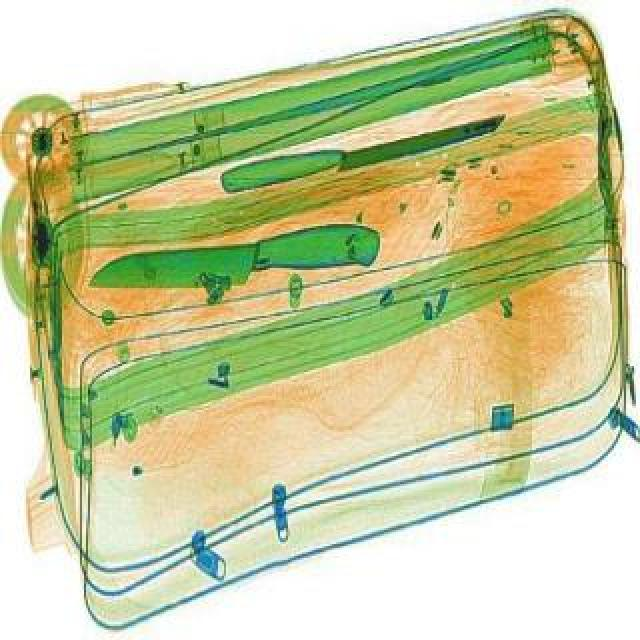knife: (216, 118, 512, 202), (86, 226, 386, 308)
